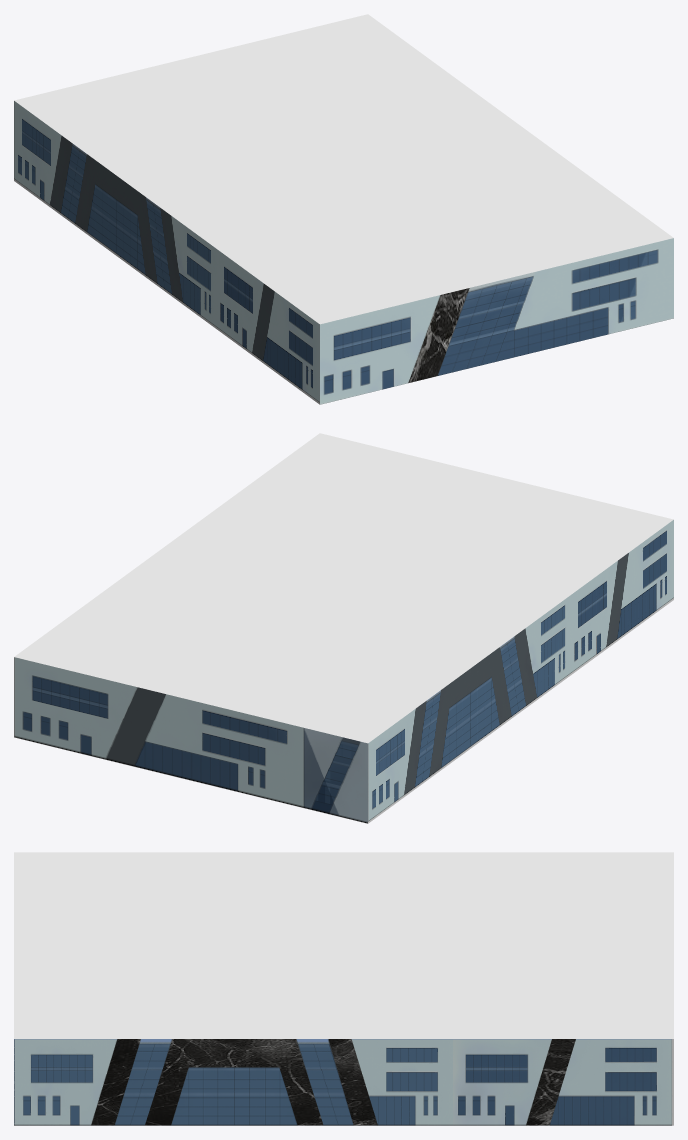
The model's file is ypfac.glb.
3 renders of one model, top to bottom at view 1: azimuth 30°, elevation 25°; view 2: azimuth 150°, elevation 25°; view 3: azimuth 270°, elevation 25°, orthographic. The views are drawn at different scales.
Parts seen in each view (by area): view 1: 立方体; view 2: 立方体; view 3: 立方体.
Part boxes in pixels (bbox=[...]): 立方体: bbox=[14, 14, 673, 404]; 立方体: bbox=[14, 433, 673, 823]; 立方体: bbox=[14, 852, 673, 1125].
Size of the model in its own units: 80.2 by 17.4 by 120.
3 materials, 3 textured.
